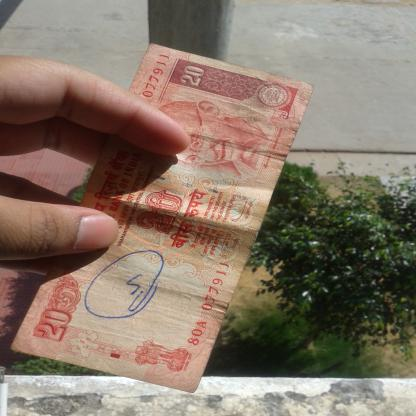Old20Front: (12, 42, 314, 394)
